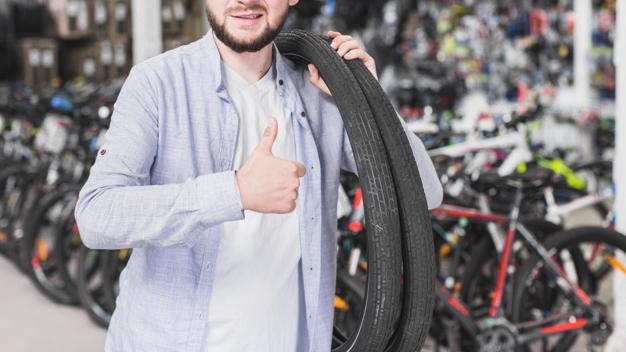thumbsup: (257, 117, 306, 214)
